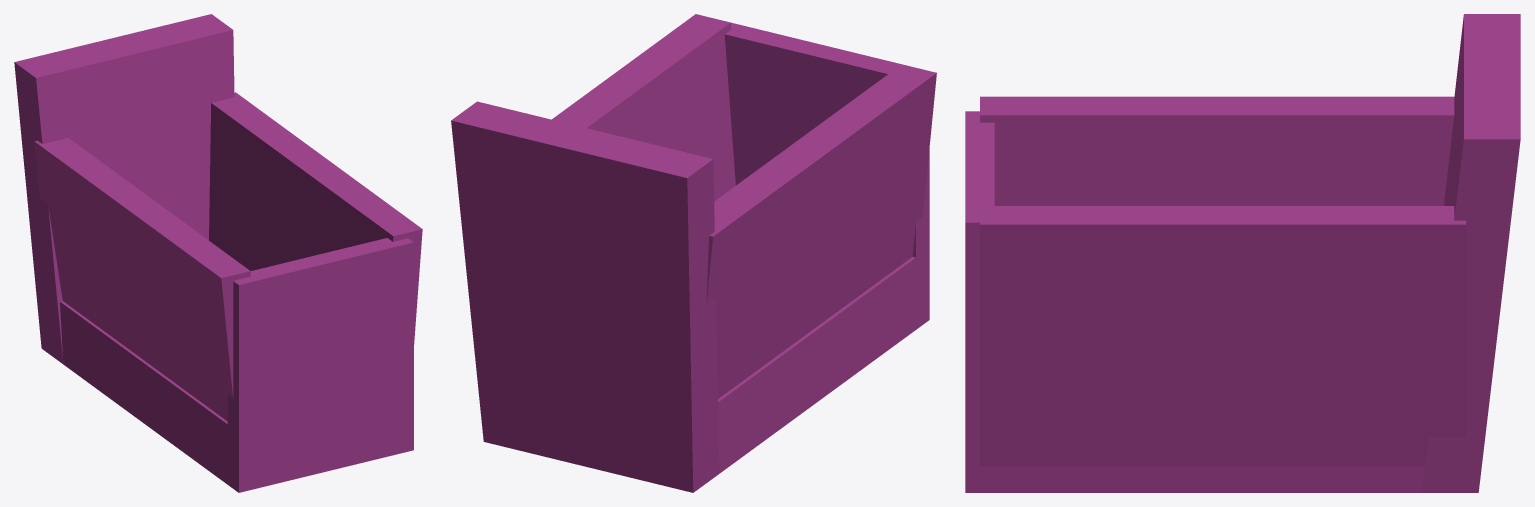
Rendered from SM_Veh_Minecart_01_Collision.fbx.
3 renders of one model, left to right at view 1: azimuth 30°, elevation 25°; view 2: azimuth 150°, elevation 25°; view 3: azimuth 270°, elevation 25°, orthographic. The views are drawn at different scales.
Parts seen in each view (by area): view 1: SM_Veh_Minecart_01_Collision; view 2: SM_Veh_Minecart_01_Collision; view 3: SM_Veh_Minecart_01_Collision.
Boxes of the visible parts, x1,y1,x2,y2 form: SM_Veh_Minecart_01_Collision: (14,14,422,492); SM_Veh_Minecart_01_Collision: (451,14,936,492); SM_Veh_Minecart_01_Collision: (965,14,1520,492).
Bounding box in the file's own units: 80.99 × 107 × 149.
